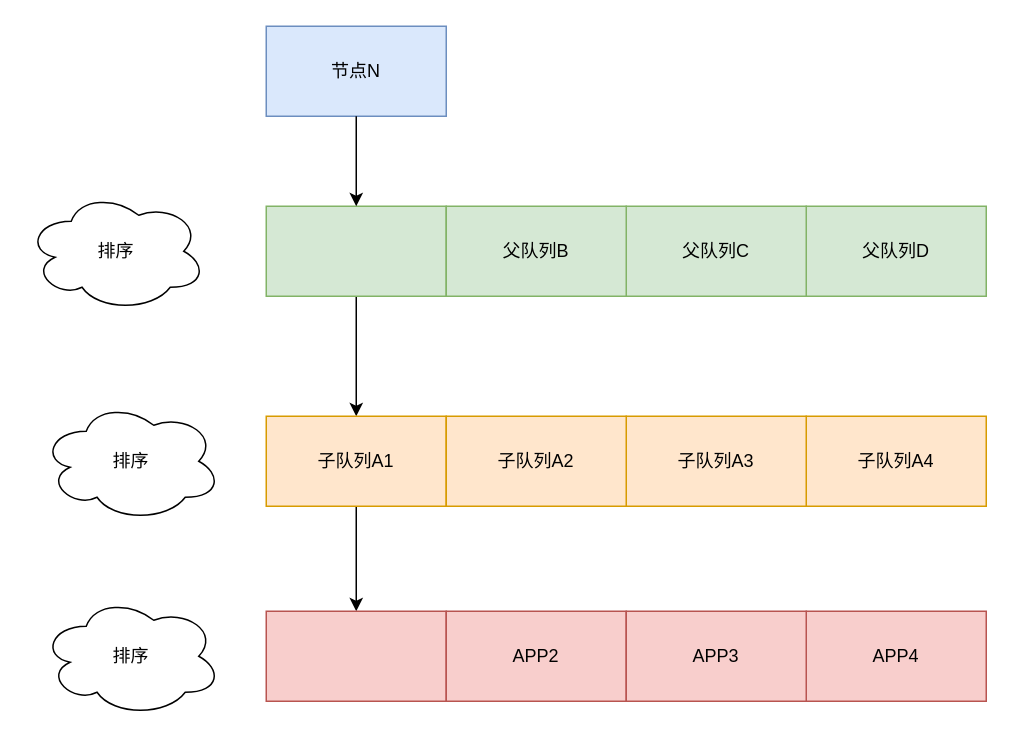
Some shapes in this 1013 by 743 pixel diagram are drawn without their labels. Here are the shapes that lost their labels. From the top down, the box of each, then its label:
(265, 205, 446, 296): 父队列A
(265, 610, 446, 701): APP1
